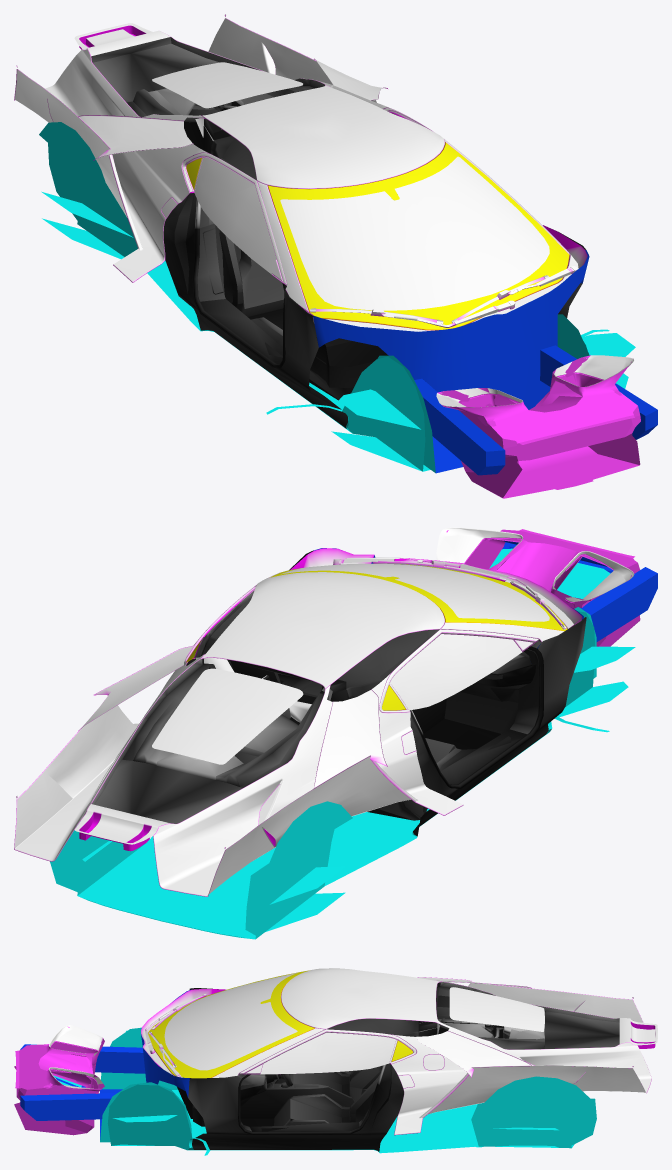
File: Car_Ford_GT_2017.fbx
The picture shows the model from 3 angles, top to bottom: view 1: azimuth 30°, elevation 25°; view 2: azimuth 150°, elevation 25°; view 3: azimuth 270°, elevation 25°; orthographic projection. The views are drawn at different scales.
Visible parts, largest first — view 1: Chassis 7, Glass 6, Interior 5, DoorR_Glass 4, Boot_Glass 3; view 2: Chassis 7, Interior 5, Boot_Glass 3, Glass 6, DoorR_Glass 4; view 3: Chassis 7, Interior 5, Glass 6, DoorL_Glass 4, Boot_Glass 3.
Part boxes in pixels (bbox=[...]): Chassis 7: bbox=[14, 14, 657, 498]; Glass 6: bbox=[267, 142, 569, 330]; Interior 5: bbox=[163, 113, 585, 428]; DoorR_Glass 4: bbox=[194, 157, 276, 274]; Boot_Glass 3: bbox=[152, 62, 302, 108]; Chassis 7: bbox=[14, 527, 657, 939]; Interior 5: bbox=[186, 550, 586, 836]; Boot_Glass 3: bbox=[152, 668, 303, 764]; Glass 6: bbox=[270, 563, 567, 631]; DoorR_Glass 4: bbox=[390, 634, 522, 710]; Chassis 7: bbox=[14, 968, 657, 1155]; Interior 5: bbox=[177, 988, 418, 1151]; Glass 6: bbox=[148, 970, 314, 1078]; DoorL_Glass 4: bbox=[260, 1032, 395, 1074]; Boot_Glass 3: bbox=[449, 987, 544, 1031].
Bounding box in the file's own units: 1.86 × 1.01 × 4.49.
